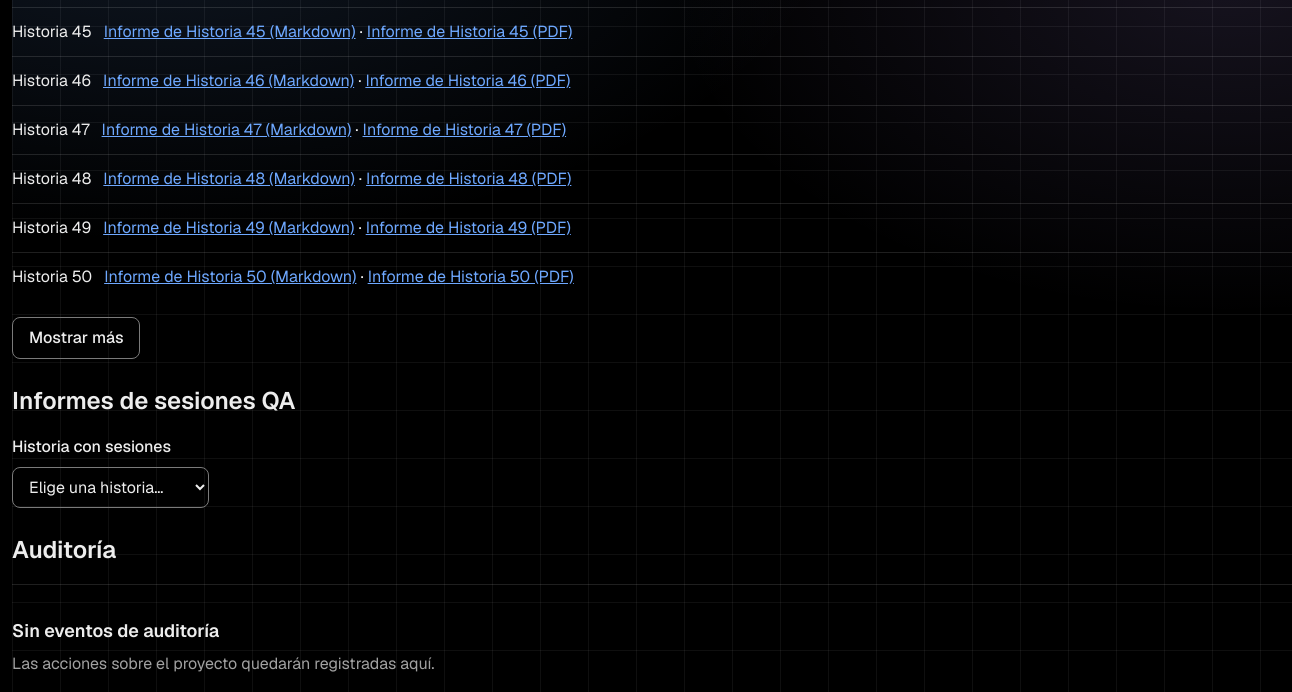
Test case: ReportsPage › con 500 historias pinta 50, muestra más y el filtro halla una
This screenshot has width=1292, height=692.
(page scrolled)
Click the button "Mostrar más" at (76, 338), box x1=12 y1=317 x2=140 y2=359
(page scrolled)
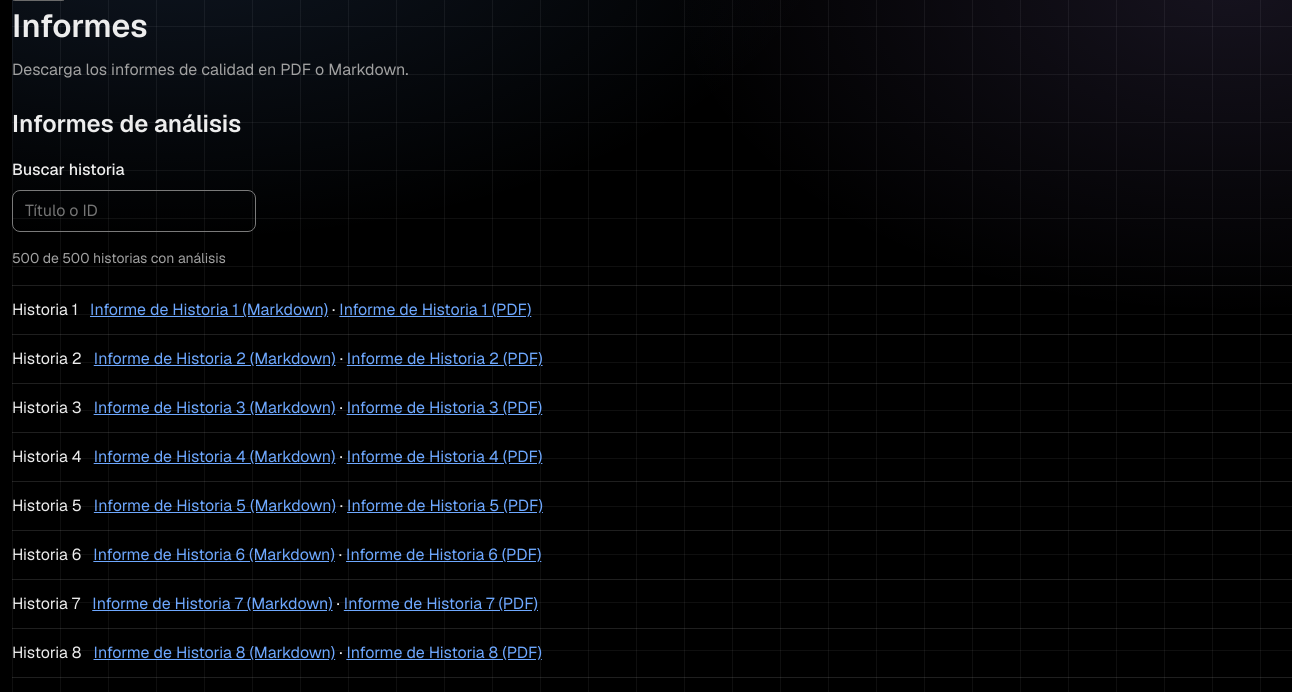
Check: the number of list items is 100
Type "Historia 500" into the search field at (134, 211), box x1=12 y1=190 x2=256 y2=232
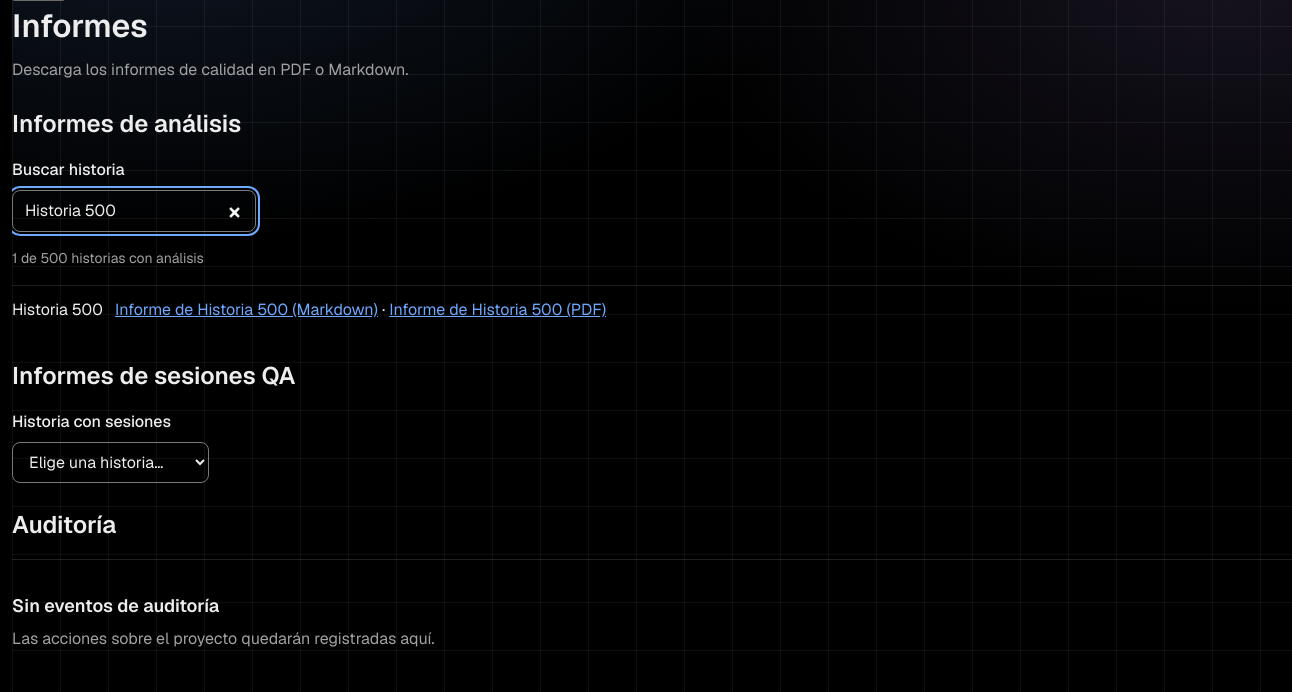
Check: the number of list items is 1, box x1=12 y1=285 x2=1291 y2=334
